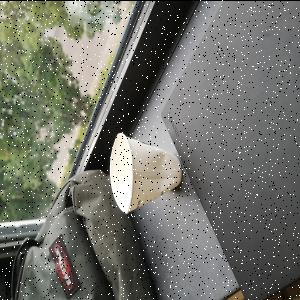Cup: (110, 132, 184, 216)
